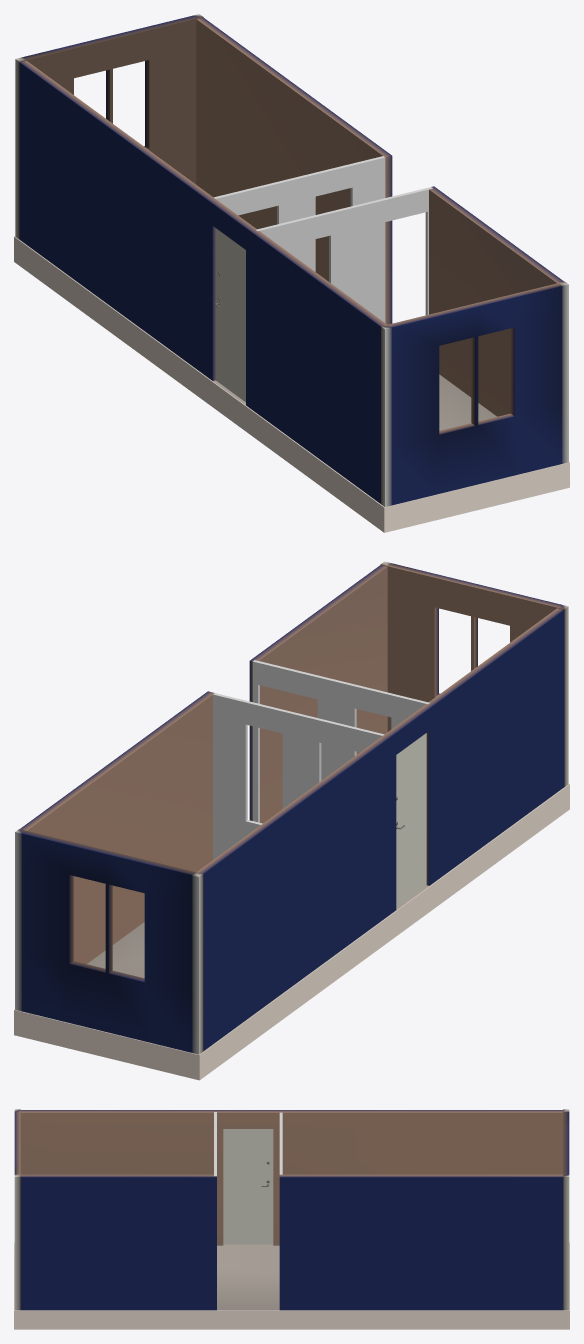
File: Bod5.fbx
3 renders of one model, top to bottom at view 1: azimuth 30°, elevation 25°; view 2: azimuth 150°, elevation 25°; view 3: azimuth 270°, elevation 25°, orthographic. The views are drawn at different scales.
Parts seen in each view (by area): view 1: WallLongDoorSmall, WallLong2.004, WallShortDoubleWindows.007, Floor.005, WallShortDoubleWindows.001, WallShortDoorInteriorOffice.002, WallShortDoorInteriorOffice.003, Door.003; view 2: WallLongDoorSmall, WallLong2.004, WallShortDoubleWindows.001, Floor.005, WallShortDoubleWindows.007, WallShortDoorInteriorOffice.002, WallShortDoorInteriorOffice.003, Door.003; view 3: WallLong2.004, WallLongDoorSmall, Floor.005, Door.003, WallShortDoubleWindows.001, WallShortDoubleWindows.007.
Part boxes in pixels (x1=…): WallLongDoorSmall: x1=19, y1=60, x2=386, y2=503; WallLong2.004: x1=196, y1=17, x2=563, y2=416; WallShortDoubleWindows.007: x1=381, y1=281, x2=568, y2=506; Floor.005: x1=14, y1=236, x2=569, y2=532; WallShortDoubleWindows.001: x1=15, y1=14, x2=203, y2=239; WallShortDoorInteriorOffice.002: x1=214, y1=156, x2=385, y2=322; WallShortDoorInteriorOffice.003: x1=255, y1=187, x2=432, y2=315; Door.003: x1=214, y1=228, x2=245, y2=401; WallLongDoorSmall: x1=197, y1=608, x2=564, y2=1050; WallLong2.004: x1=20, y1=565, x2=387, y2=964; WallShortDoubleWindows.001: x1=15, y1=829, x2=203, y2=1054; Floor.005: x1=14, y1=784, x2=569, y2=1080; WallShortDoubleWindows.007: x1=380, y1=561, x2=568, y2=786; WallShortDoorInteriorOffice.002: x1=213, y1=693, x2=384, y2=859; WallShortDoorInteriorOffice.003: x1=252, y1=660, x2=429, y2=822; Door.003: x1=396, y1=733, x2=426, y2=906; WallLong2.004: x1=20, y1=1174, x2=563, y2=1310; WallLongDoorSmall: x1=20, y1=1110, x2=562, y2=1245; Floor.005: x1=14, y1=1242, x2=569, y2=1329; Door.003: x1=223, y1=1129, x2=273, y2=1244; WallShortDoubleWindows.001: x1=563, y1=1109, x2=569, y2=1310; WallShortDoubleWindows.007: x1=14, y1=1109, x2=20, y2=1310.
Bounding box in the file's own units: 262 × 274 × 905.
